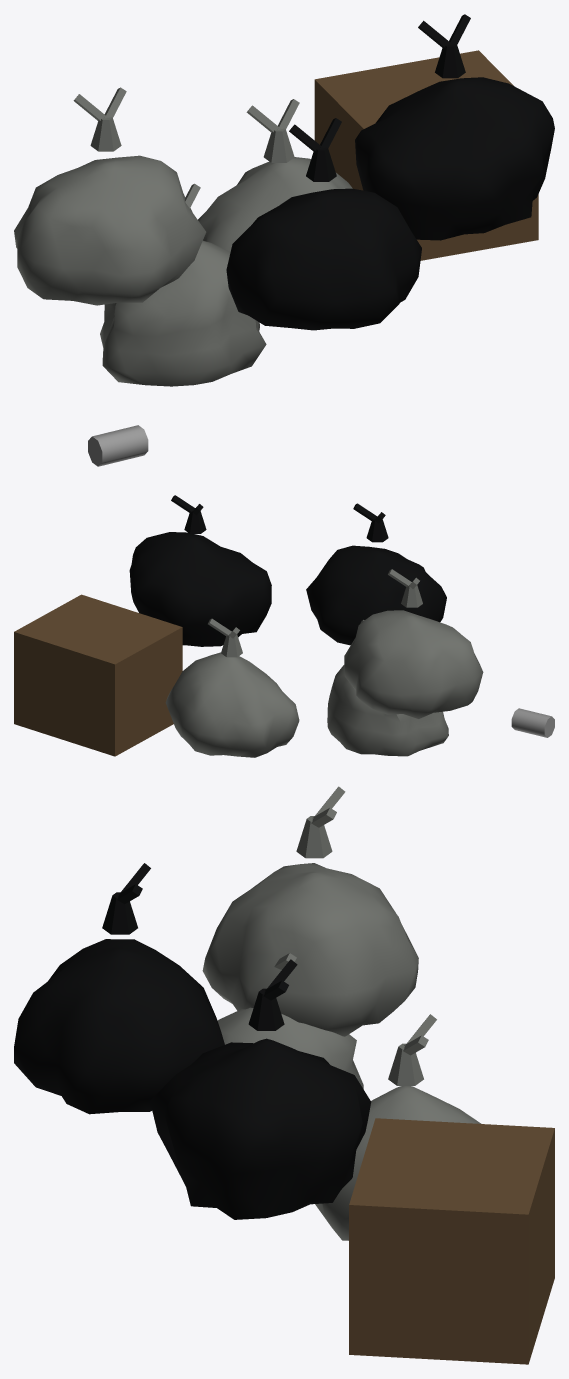
The model's file is St_TrashBags_A.fbx.
3 renders of one model, top to bottom at view 1: azimuth 30°, elevation 25°; view 2: azimuth 150°, elevation 25°; view 3: azimuth 270°, elevation 25°, orthographic. The views are drawn at different scales.
Visible parts, largest first — view 1: St_TrashBags_A_LOD0; view 2: St_TrashBags_A_LOD0; view 3: St_TrashBags_A_LOD0.
Boxes of the visible parts, x1,y1,x2,y2 form: St_TrashBags_A_LOD0: (14, 14, 554, 466); St_TrashBags_A_LOD0: (14, 495, 554, 757); St_TrashBags_A_LOD0: (14, 786, 554, 1364).
Size of what is drawn, in the model's own units: 1.47 by 0.7071 by 1.05.
